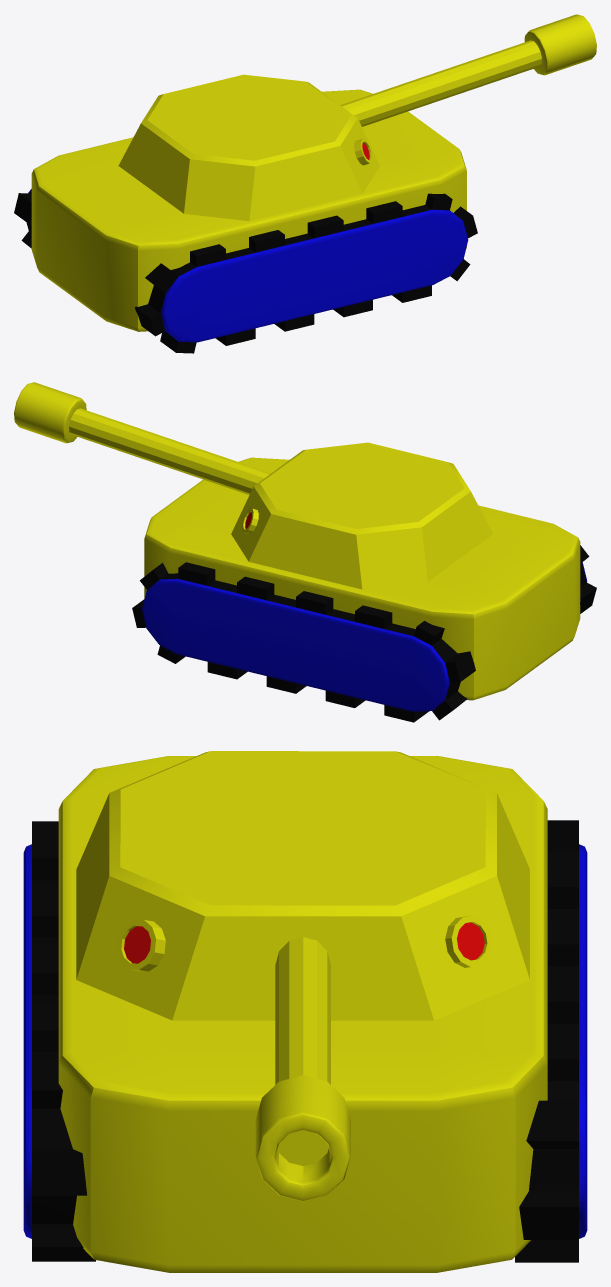
The model's file is Tank_Enemy.fbx.
3 views of the same model, one above another, from view 1: azimuth 30°, elevation 25°; view 2: azimuth 150°, elevation 25°; view 3: azimuth 270°, elevation 25° (orthographic). The views are drawn at different scales.
Visible parts, largest first — view 1: Tank_Enemy; view 2: Tank_Enemy; view 3: Tank_Enemy.
Part boxes in pixels (left/top/right/bottom): Tank_Enemy: left=14, top=14, right=596, bottom=353; Tank_Enemy: left=14, top=382, right=596, bottom=722; Tank_Enemy: left=23, top=751, right=587, bottom=1272.
Size of the model in its own units: 14.37 by 4.71 by 6.79.
